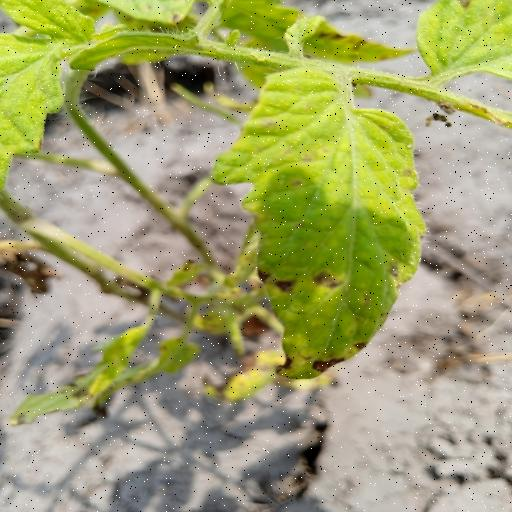Tomato_Brown_Spots: (207, 64, 434, 384)
